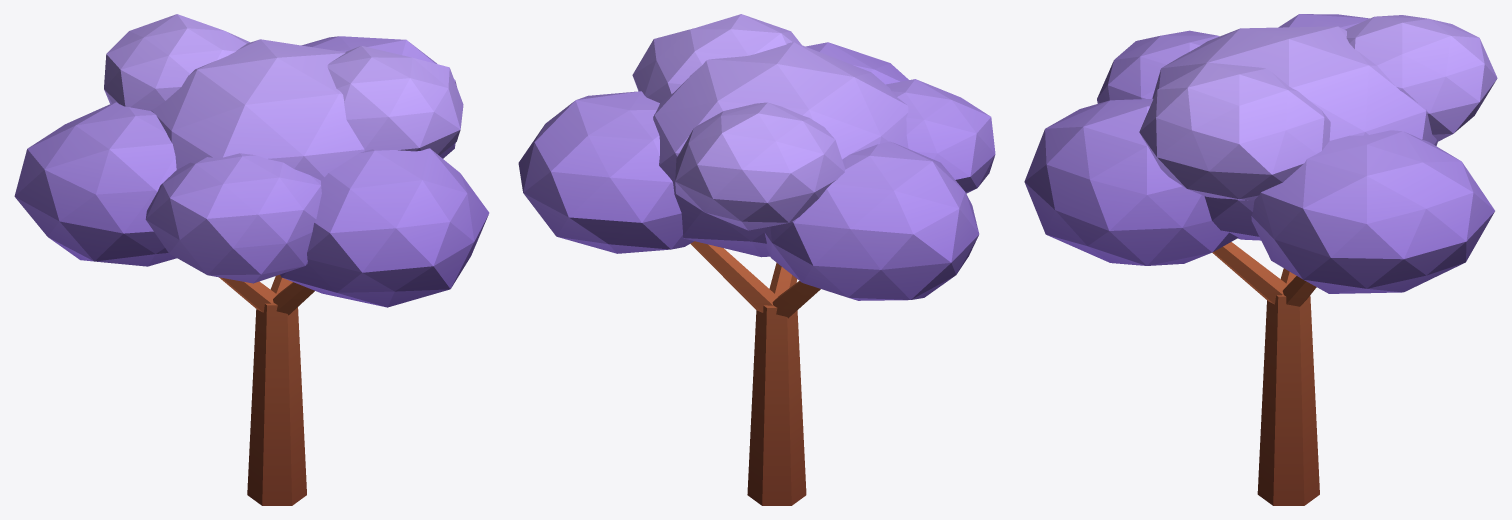
Rendered from jacaranda.glb.
3 views of the same model, side by side, from view 1: azimuth 30°, elevation 25°; view 2: azimuth 150°, elevation 25°; view 3: azimuth 270°, elevation 25° (orthographic). The views are drawn at different scales.
Parts seen in each view (by area): view 1: jacaranda; view 2: jacaranda; view 3: jacaranda.
Boxes of the visible parts, left/top/right/bottom form: jacaranda: left=14, top=14, right=489, bottom=505; jacaranda: left=518, top=14, right=995, bottom=505; jacaranda: left=1024, top=14, right=1497, bottom=505.
Bounding box in the file's own units: 3.62 × 3.55 × 3.34.
1 material, 1 textured.
